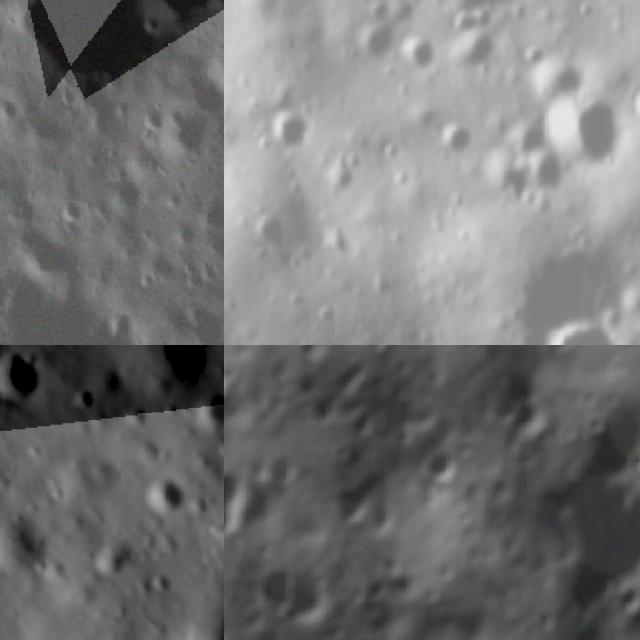crater: (0, 0, 160, 84), (0, 267, 155, 345), (538, 92, 626, 172), (128, 461, 200, 533), (0, 345, 64, 418), (241, 550, 303, 621), (139, 345, 224, 394), (323, 472, 378, 536), (340, 15, 398, 74), (252, 108, 317, 158), (242, 206, 298, 263), (443, 21, 498, 79), (166, 292, 224, 345), (472, 163, 534, 212), (526, 150, 588, 199), (419, 439, 474, 492), (424, 114, 479, 166), (534, 316, 631, 345), (395, 30, 449, 82), (160, 109, 212, 162), (186, 376, 224, 445), (356, 493, 406, 544), (433, 0, 541, 22), (503, 395, 550, 444), (260, 447, 306, 495), (224, 455, 255, 524), (141, 558, 185, 604), (150, 0, 224, 24), (200, 27, 224, 96), (607, 577, 640, 626), (105, 175, 144, 216), (526, 345, 595, 365), (54, 192, 90, 230), (224, 345, 243, 413), (136, 98, 168, 136), (199, 192, 224, 232), (361, 345, 399, 361), (625, 444, 640, 480), (349, 627, 389, 640), (256, 0, 301, 11), (224, 610, 237, 640)
